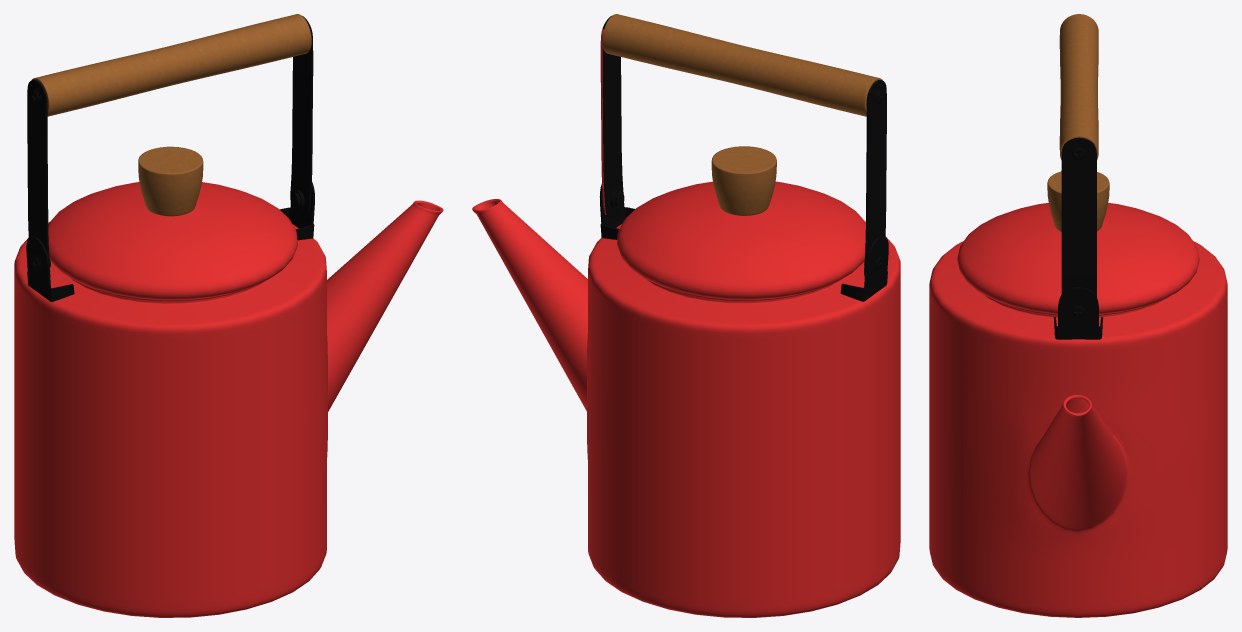
The model's file is Kettle.fbx.
The picture shows the model from 3 angles, left to right: view 1: azimuth 30°, elevation 25°; view 2: azimuth 150°, elevation 25°; view 3: azimuth 270°, elevation 25°; orthographic projection. The views are drawn at different scales.
Visible parts, largest first — view 1: Body, Lid, Handle; view 2: Body, Lid, Handle; view 3: Body, Lid, Handle.
Boxes of the visible parts, x1,y1,x2,y2 form: Body: (14, 182, 443, 617); Lid: (48, 146, 297, 299); Handle: (27, 14, 313, 271); Body: (472, 184, 900, 617); Lid: (617, 146, 865, 299); Handle: (600, 14, 886, 276); Body: (929, 241, 1227, 617); Lid: (957, 171, 1199, 313); Handle: (1059, 14, 1098, 296).
Size of the model in its own units: 20.33 by 24.23 by 13.54.
